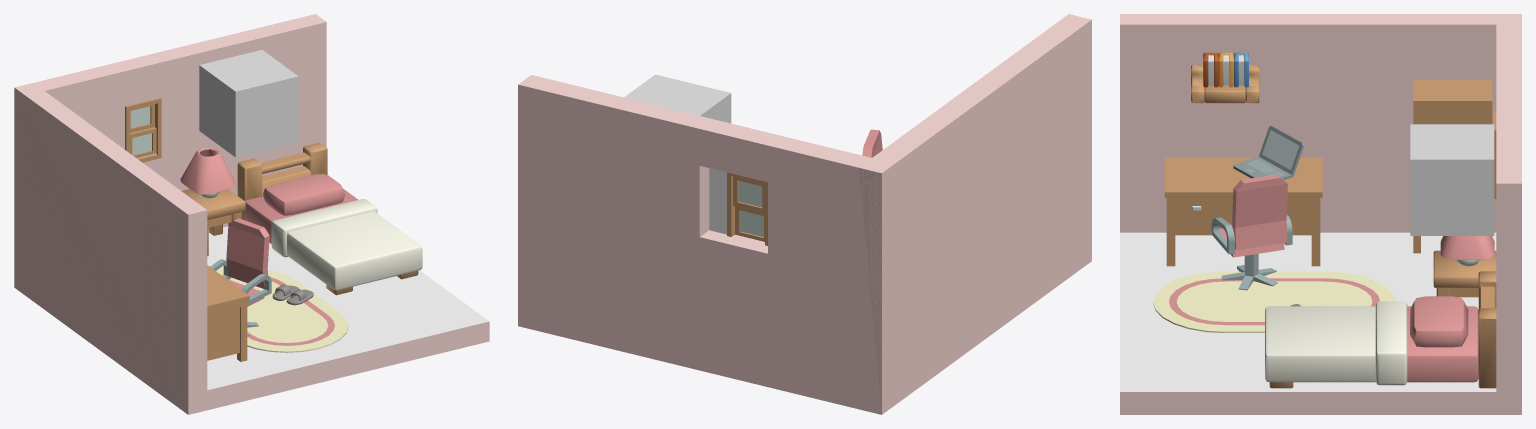
The model's file is room_template.glb.
The picture shows the model from 3 angles, left to right: view 1: azimuth 30°, elevation 25°; view 2: azimuth 150°, elevation 25°; view 3: azimuth 270°, elevation 25°; orthographic projection. The views are drawn at different scales.
Parts seen in each view (by area): view 1: RoomBase, bed_single_A, Cube, rugRounded, wallWindowSlide, desk, chair, lamp_table, table_small, windowBottom, lpbns_br_slipper, windowTop; view 2: RoomBase, Cube, wallWindowSlide, windowTop, windowBottom; view 3: RoomBase, bed_single_A, rugRounded, Cube, desk, chair, bookcaseClosedDoors, laptop, table_small, shelf_B_small, book_set.002, lamp_table (+4 smaller).
Part boxes in pixels (x1,y1,x2,y2): RoomBase: (14,14,489,414); bed_single_A: (237,142,422,295); Cube: (199,50,298,157); rugRounded: (216,269,348,352); wallWindowSlide: (105,78,179,181); desk: (207,265,249,361); chair: (210,218,271,306); lamp_table: (180,148,236,198); table_small: (181,189,245,256); windowBottom: (130,127,156,157); lpbns_br_slipper: (272,284,313,305); windowTop: (130,104,154,132); RoomBase: (518,14,1091,414); Cube: (624,74,731,123); wallWindowSlide: (709,168,767,245); windowTop: (733,176,764,213); windowBottom: (735,206,764,241); RoomBase: (1120,14,1521,414); bed_single_A: (1265,271,1496,388); rugRounded: (1153,271,1395,332); Cube: (1410,124,1494,235); desk: (1164,157,1322,266); chair: (1211,174,1292,257); bookcaseClosedDoors: (1413,80,1492,253); laptop: (1233,126,1304,179); table_small: (1433,250,1496,297); shelf_B_small: (1191,65,1259,103); book_set.002: (1203,52,1248,87); lamp_table: (1440,236,1494,266).
Size of the model in its own units: 4.73 by 3 by 4.73.
28 materials, 2 textured.
